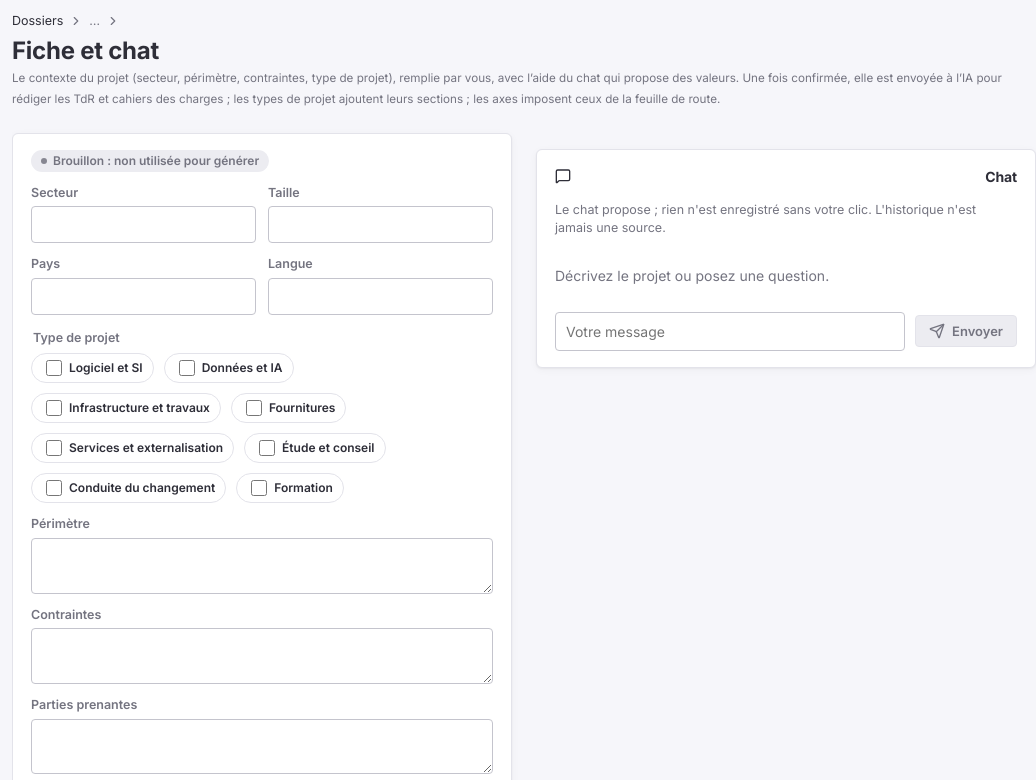
it: fiche de contexte et chat › refus explicite quand la fenêtre est pleine
The width and height of the screenshot is (1036, 780).
Type "Bonjour" into the field labelled "Votre message". click: (730, 331)
box: [555,312,905,350]
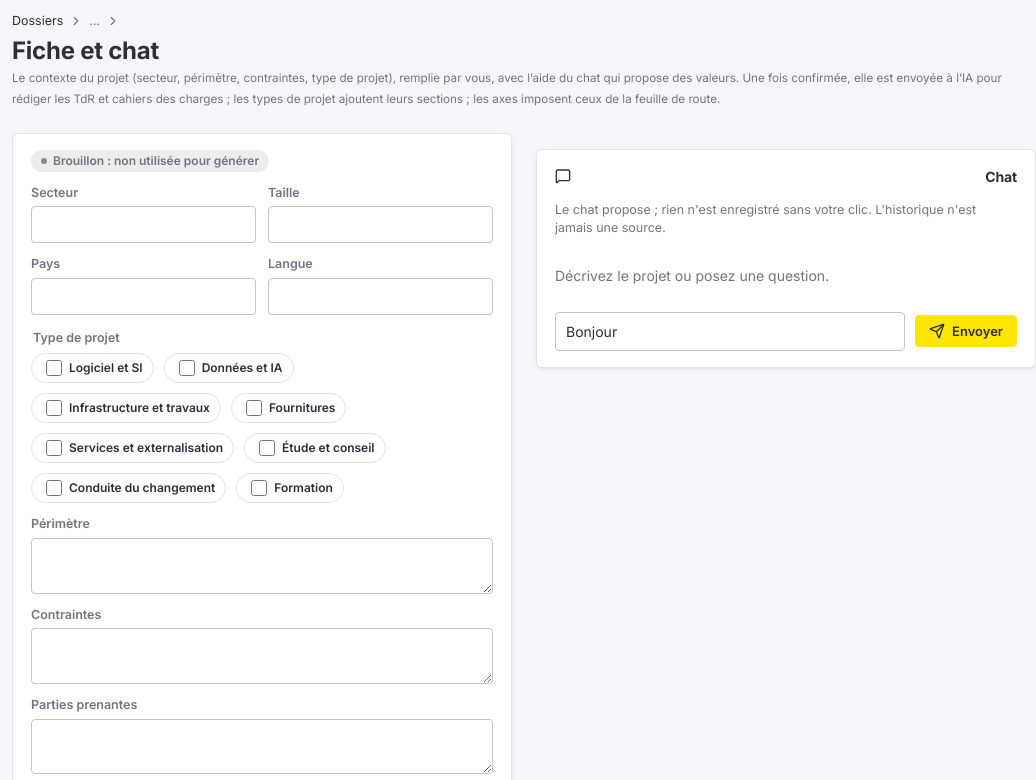
Click the button "Envoyer". click: (966, 331)
box: [915,315,1017,348]
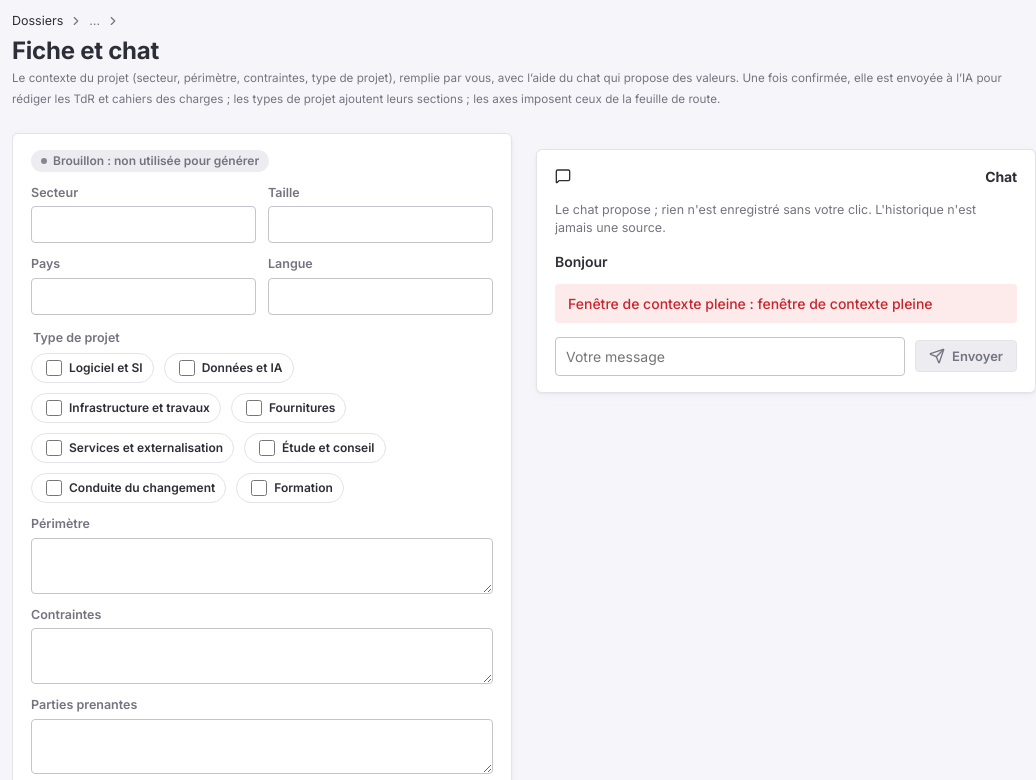
expect the text "Fenêtre de contexte pleine : fenêtre de contexte pleine" is shown: met, box [555,284,1017,322]
